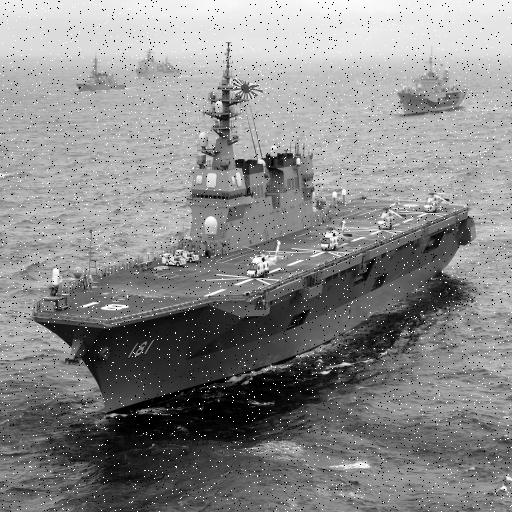Portanaves: (33, 37, 480, 428)
